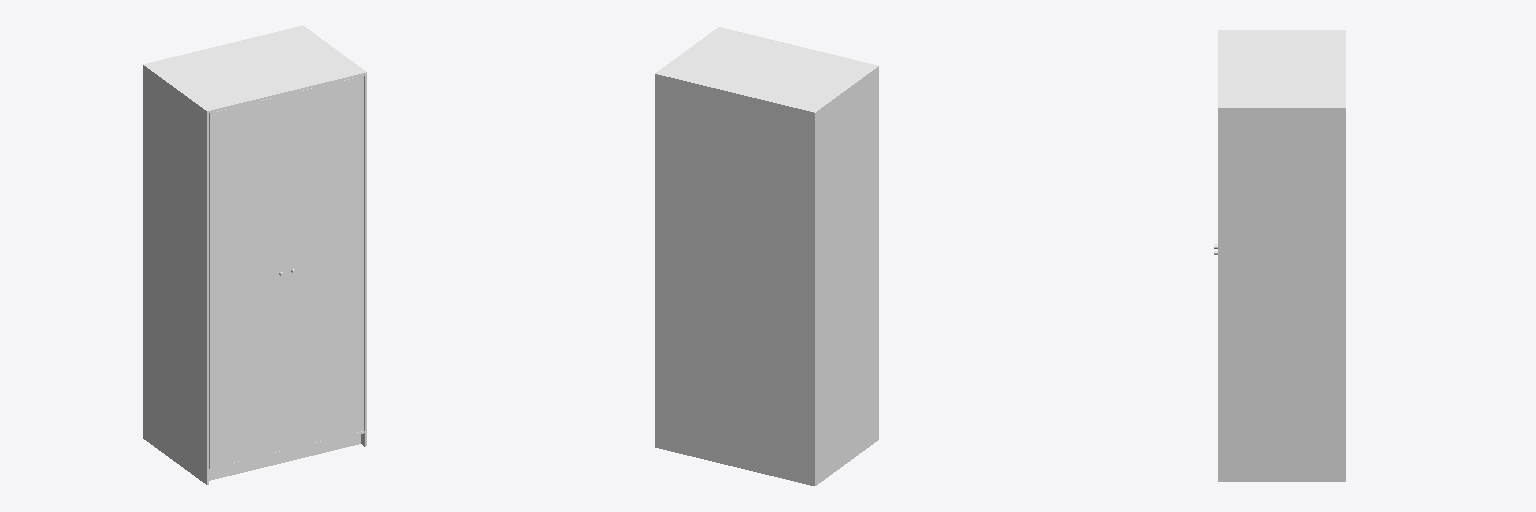
Rendered from KLEPPSTAD.obj.
3 views of the same model, side by side, from view 1: azimuth 30°, elevation 25°; view 2: azimuth 150°, elevation 25°; view 3: azimuth 270°, elevation 25° (orthographic).
Parts seen in each view (by area): view 1: Cube.007_Cube.009; view 2: Cube.007_Cube.009; view 3: Cube.007_Cube.009.
Part boxes in pixels (left/top/right/bottom): Cube.007_Cube.009: left=143, top=25, right=366, bottom=484; Cube.007_Cube.009: left=655, top=27, right=878, bottom=485; Cube.007_Cube.009: left=1214, top=30, right=1345, bottom=481.
Size of the model in its own units: 1.59 by 3.54 by 1.13.